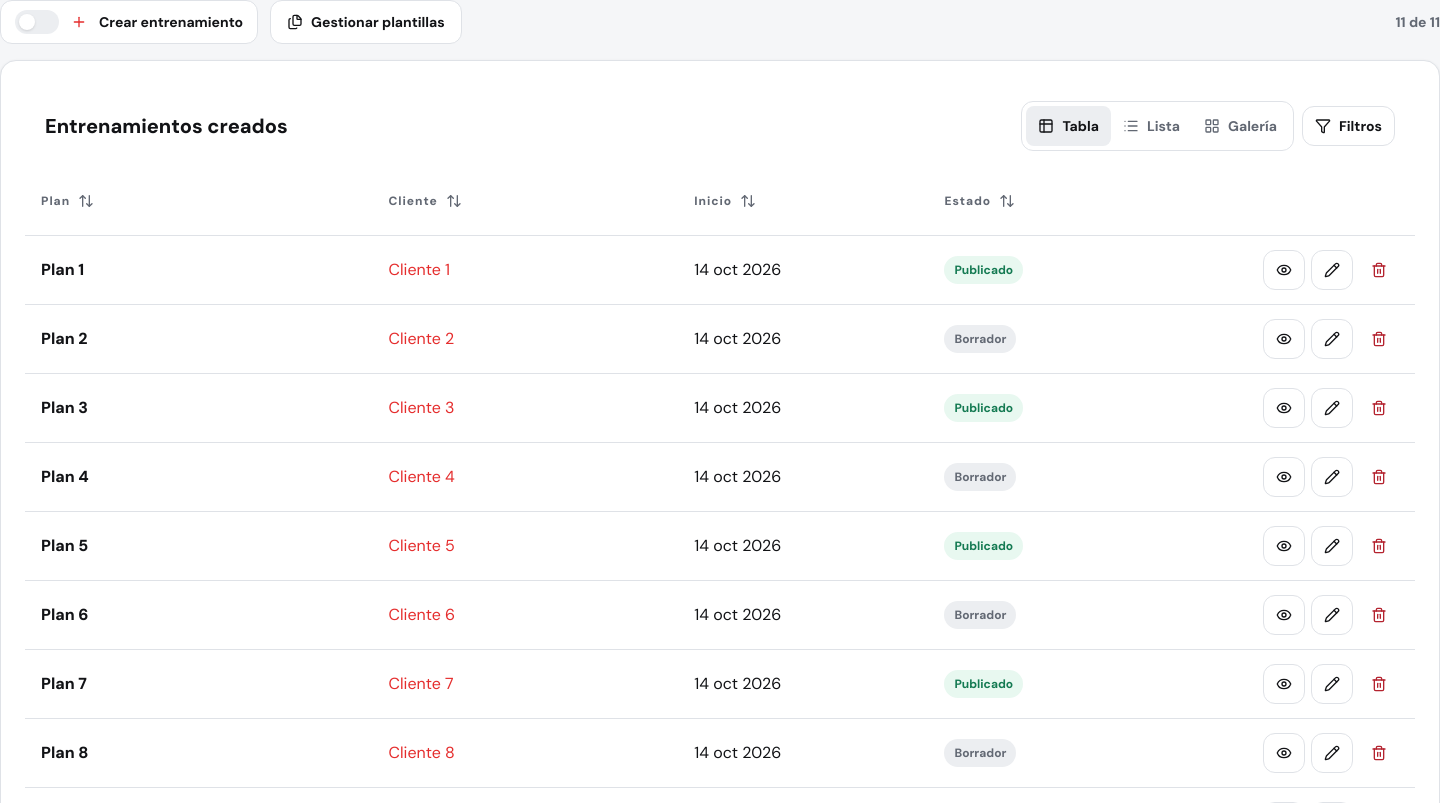
Test case: AssignmentsManager › permite filtrar y ordenar todas las columnas visibles
Click the button "Filtros" at (1348,126), box [1302,106,1395,146]
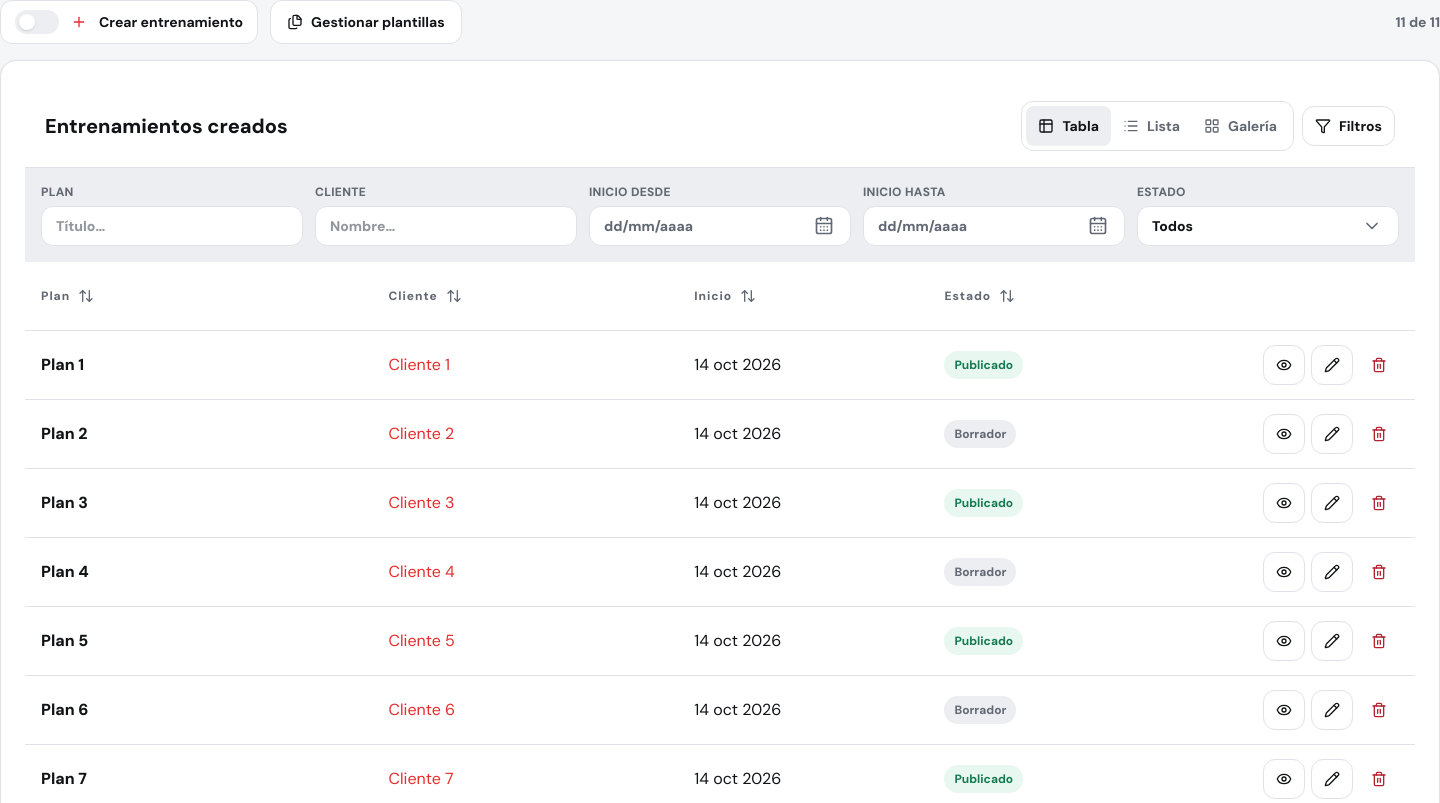
Type "Plan 2" into the field with placeholder "Título…" at (172,226), box [41,206,303,246]
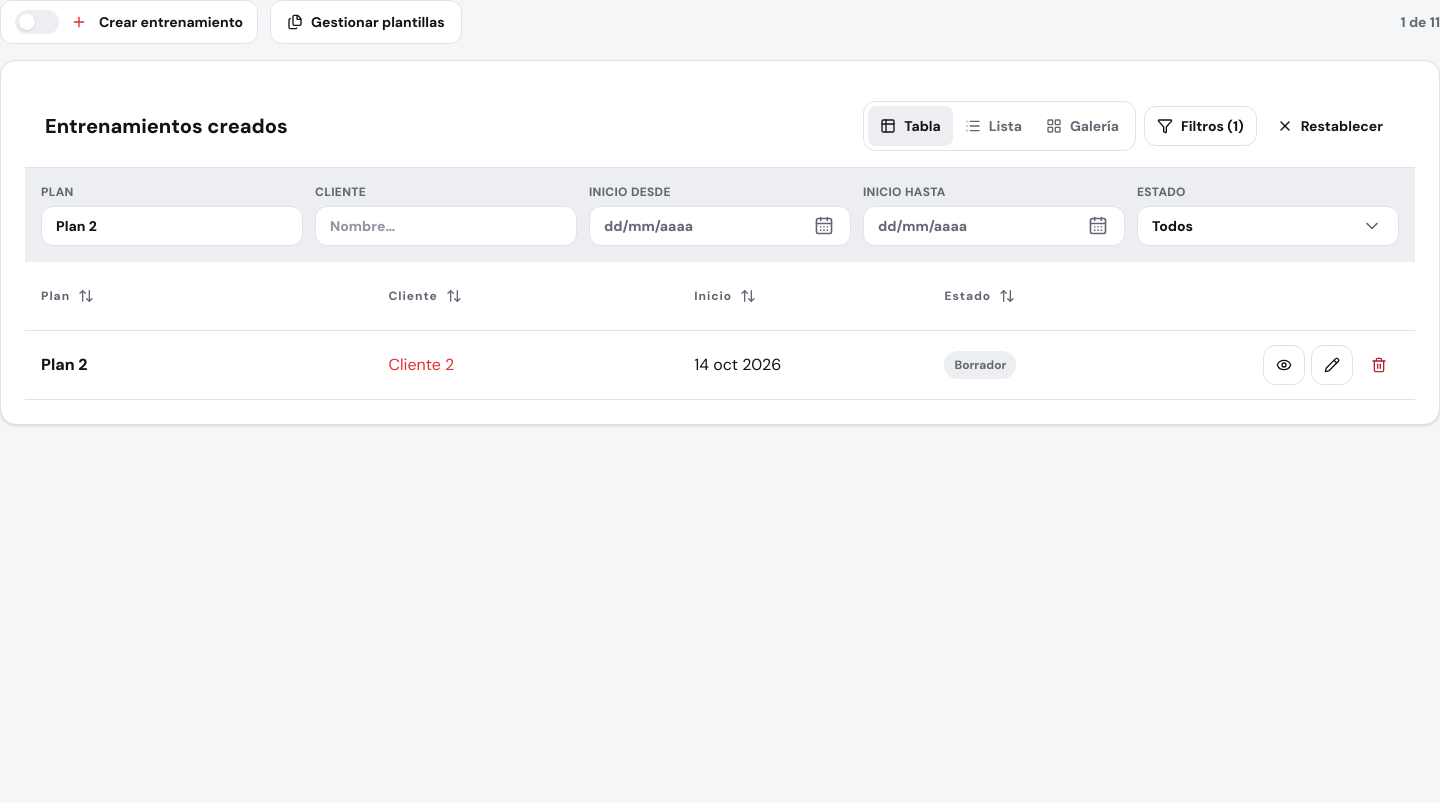
Expected: the text "Plan 2" is shown, [25,330,372,400]
Now the text "Plan 1" is gone
Click the button "Restablecer" at (1330,126), box [1265,106,1395,146]
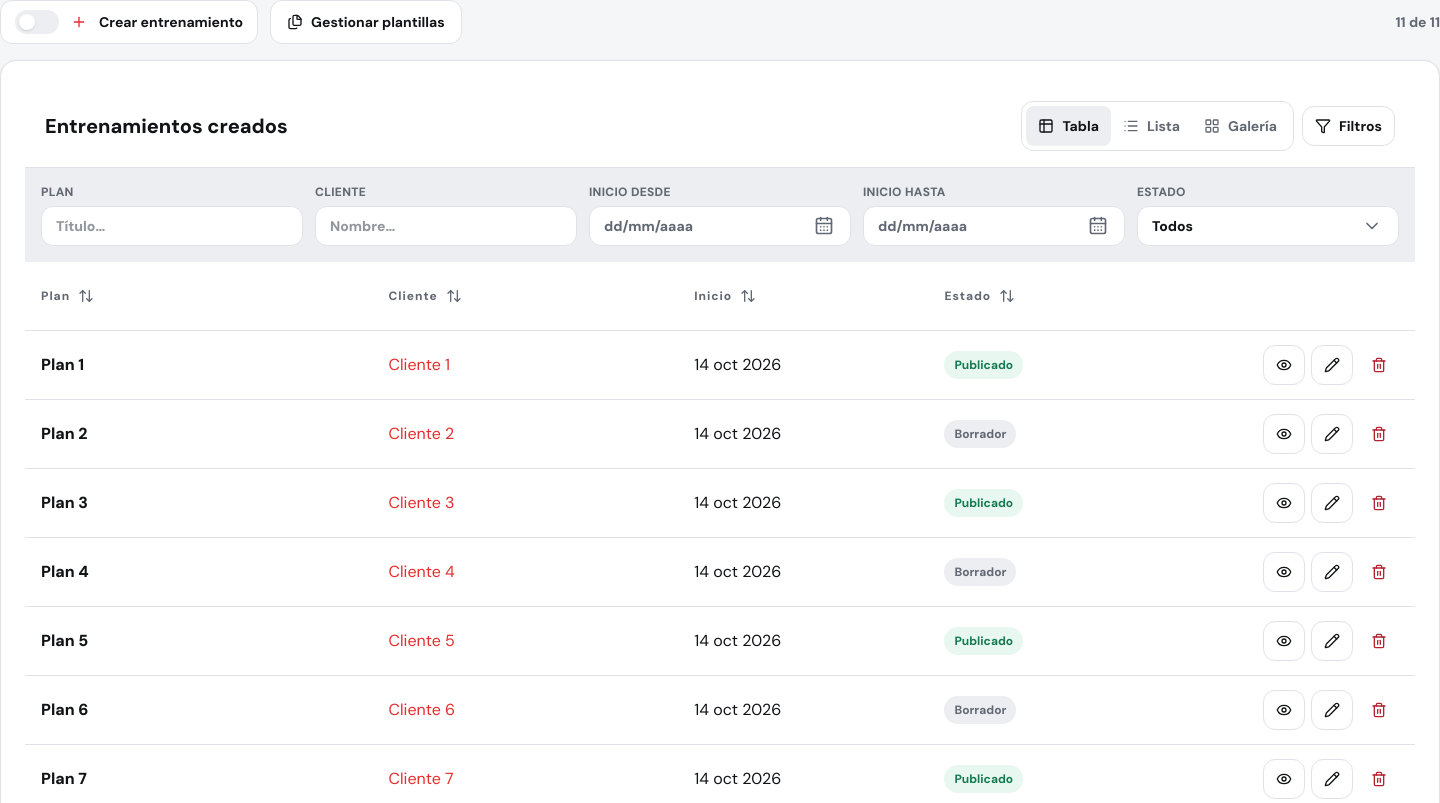
Click the button with aria-label "Ordenar Plan en orden ascendente" at (68,296), box [41,276,94,316]
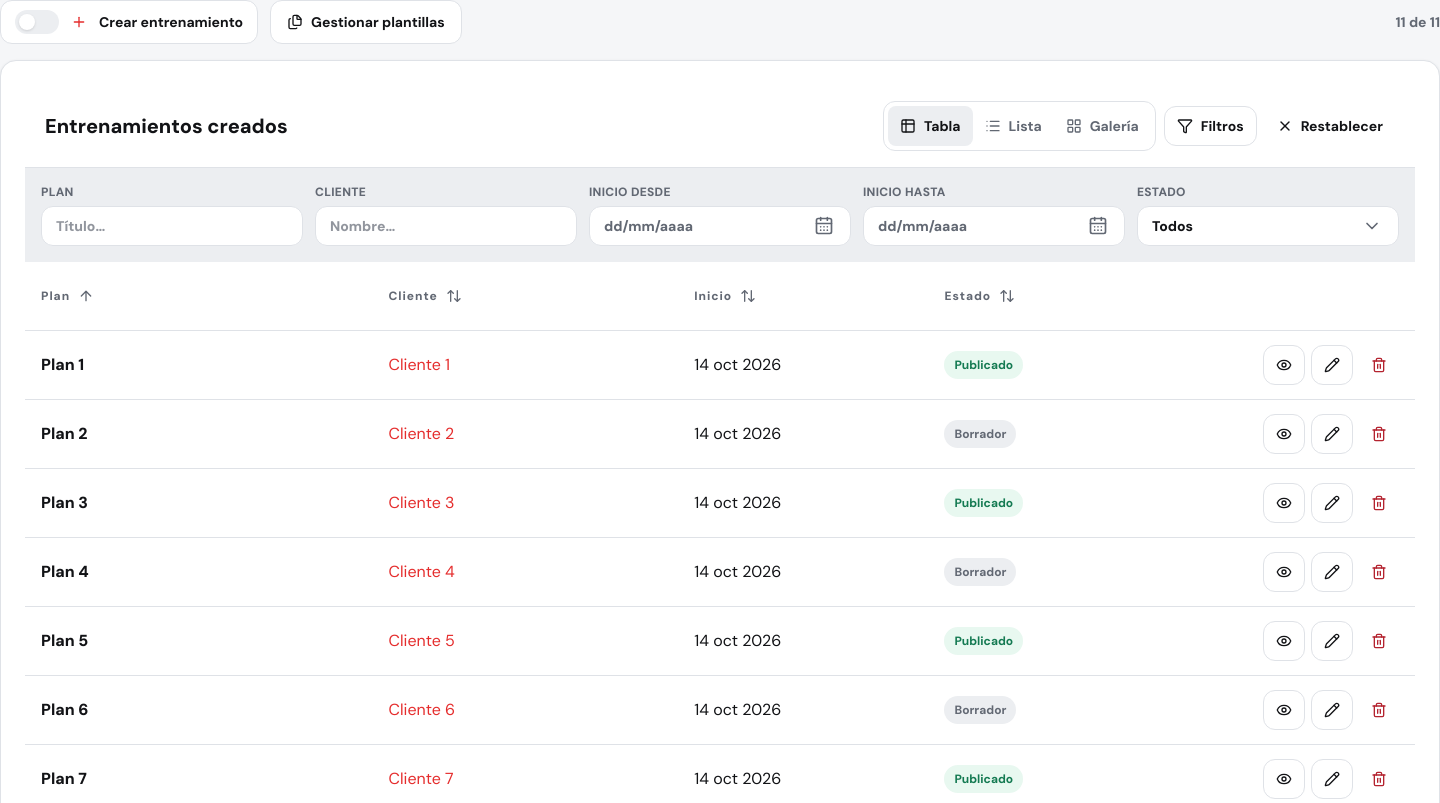
Click the button with aria-label "Ordenar Plan en orden descendente" at (68,296), box [41,276,94,316]
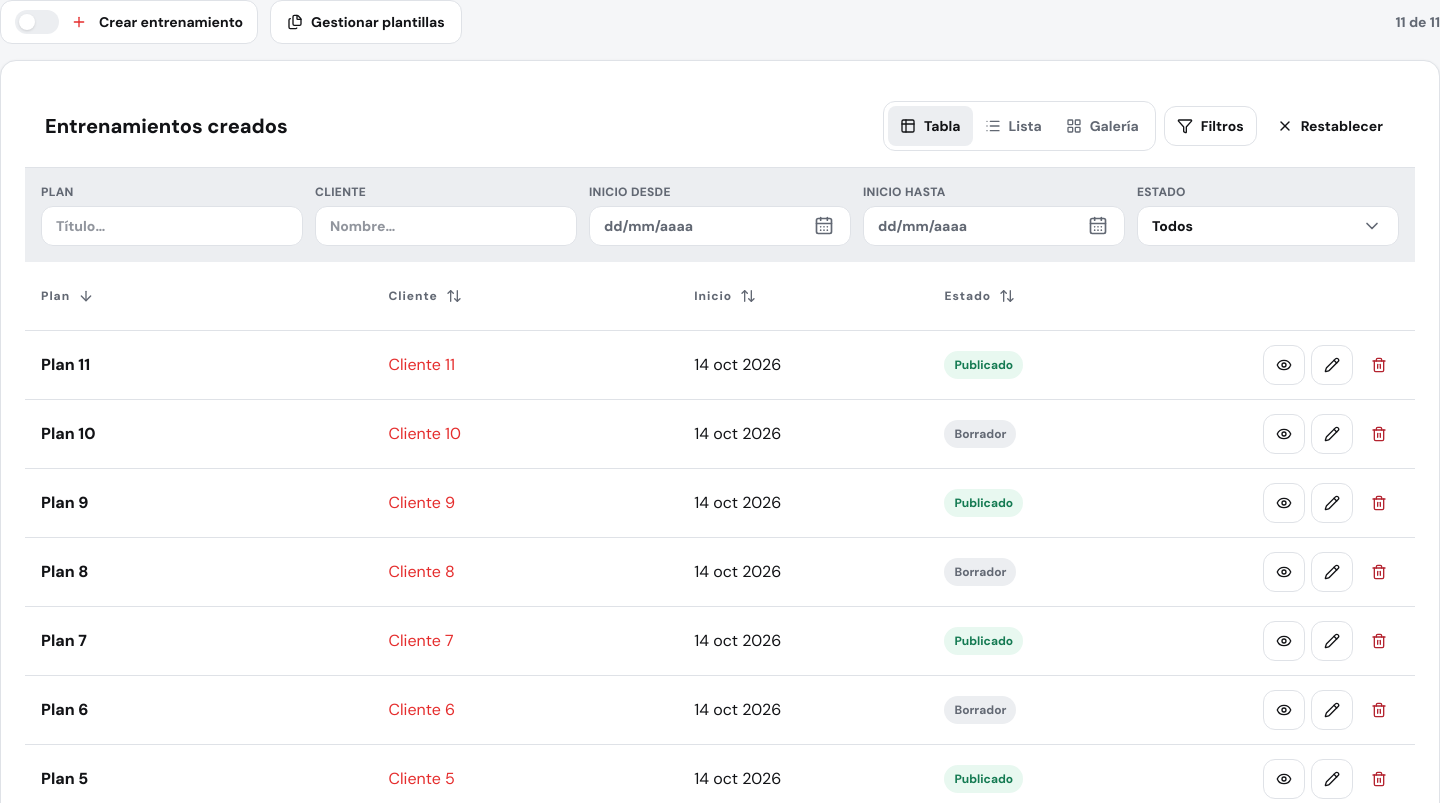
Now the row "Plan 11 Cliente 11 14 oct 2026 Publicado" is shown, box [25,330,1415,400]
